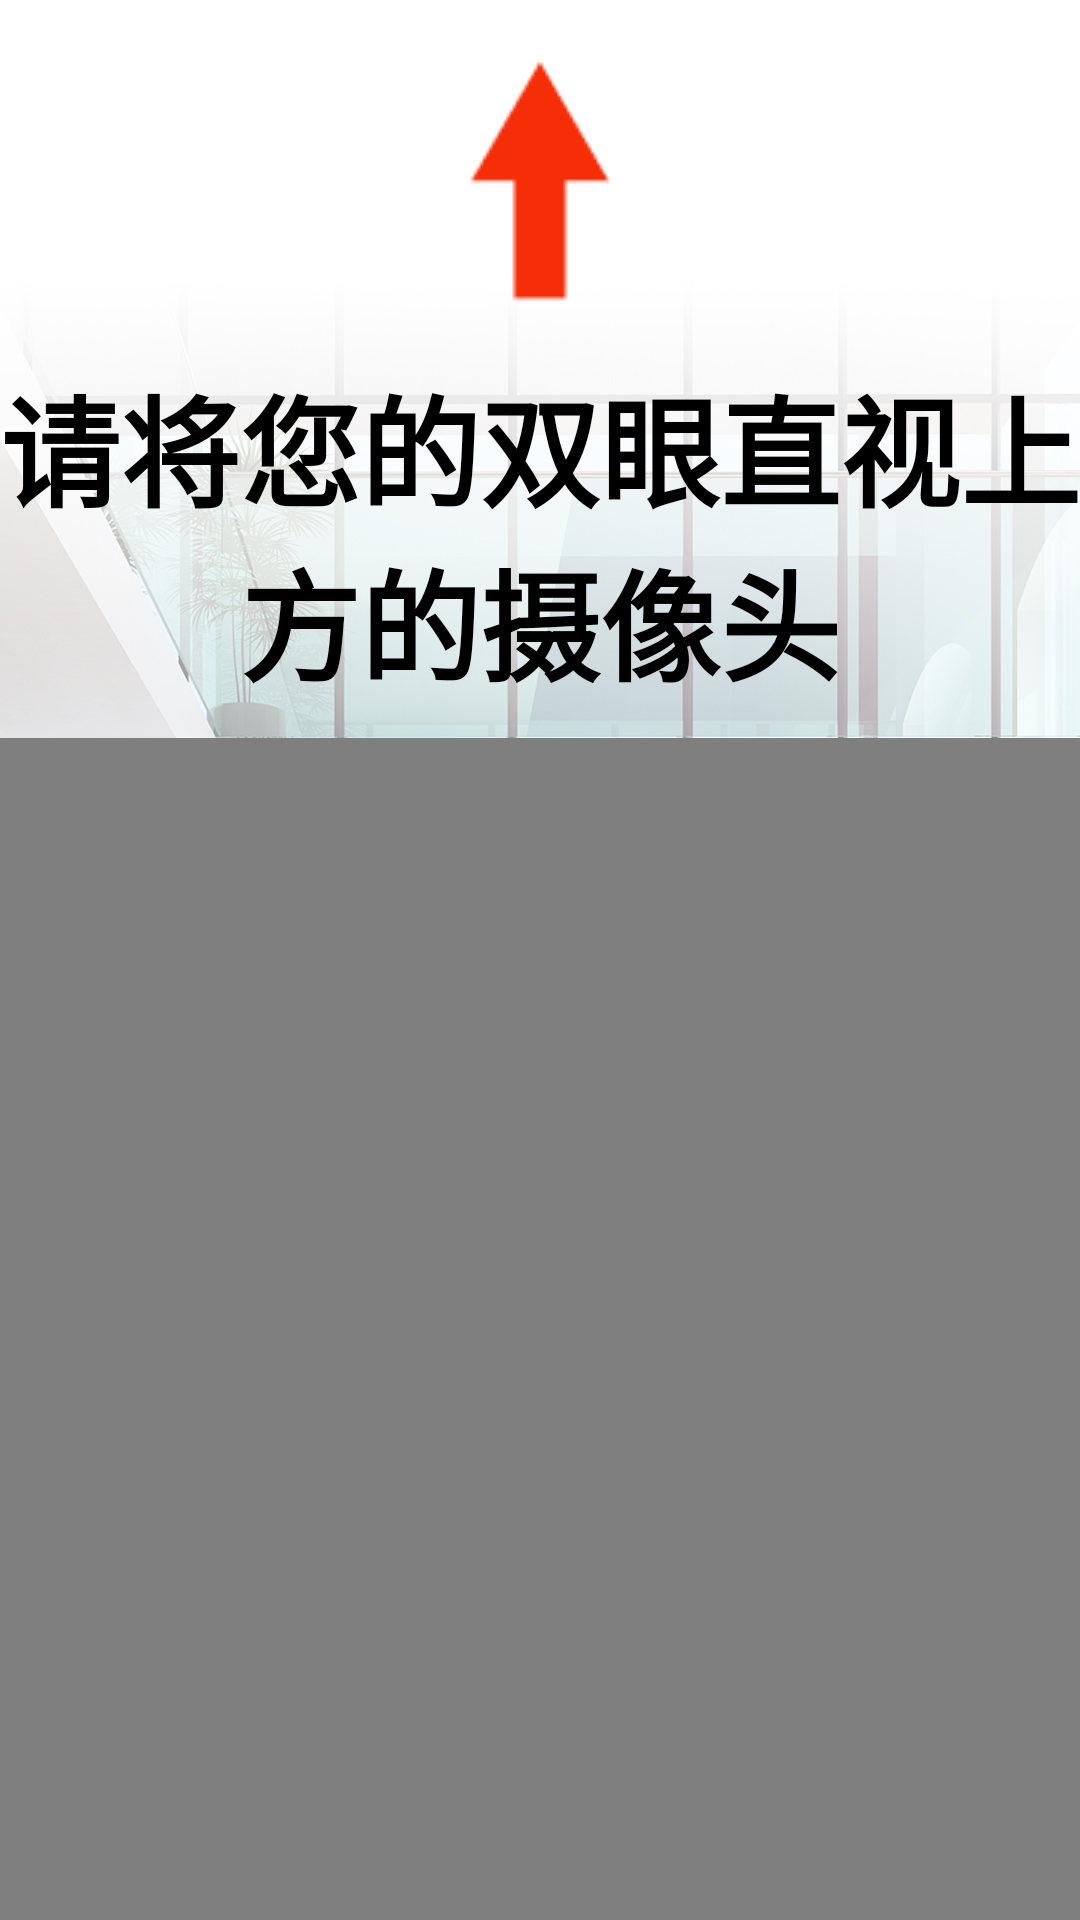

Named icons in this screenshot (1080 × 1920) and their centers, (x=x, y=y):
arrow: (x=540, y=181)
